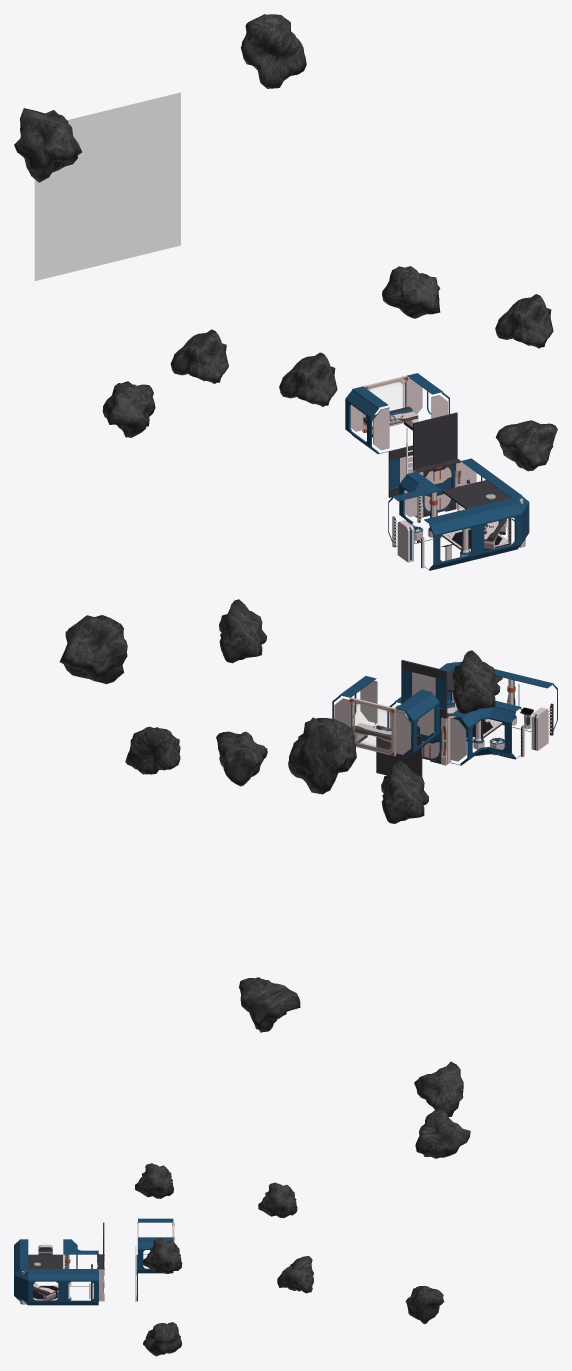
3 renders of one model, top to bottom at view 1: azimuth 30°, elevation 25°; view 2: azimuth 150°, elevation 25°; view 3: azimuth 270°, elevation 25°, orthographic. The views are drawn at different scales.
Parts seen in each view (by area): view 1: Vortex (1), window_big_plug (×3), Space Waste Small (7), Space Waste Small (8), floor_4 (×2), Space Waste Small (5), Space Waste Small (1), Space Waste Small (3), Space Waste Small (4), Space Waste Small (2), Space Waste Small (6), floor_5 (1) (+3 smaller); view 2: Space Waste Small (8), Space Waste Small (7), floor_4 (×2), Space Waste Small (4), Space Waste Small (2), Space Waste Small (6), Space Waste Small (3), Space Waste Small (5), Space Waste Small (1), window_big_corner_plug, glass_panel_1, window_big_plug (+5 smaller); view 3: window_big_plug (×3), Space Waste Small (7), Space Waste Small (8), Space Waste Small (6), Space Waste Small (4), Space Waste Small (2), Space Waste Small (3), Space Waste Small (1), Space Waste Small (5), floor_5 (1), window_big_corner_far_plug (1), window_big_corner_plug.
Boxes of the visible parts, x1,y1,x2,y2 form: Vortex (1): [34, 92, 180, 280]; window_big_plug (×3): [345, 386, 521, 570]; Space Waste Small (7): [240, 14, 306, 88]; Space Waste Small (8): [14, 108, 81, 182]; floor_4 (×2): [388, 412, 457, 497]; Space Waste Small (5): [382, 266, 440, 318]; Space Waste Small (1): [495, 420, 557, 471]; Space Waste Small (3): [279, 352, 337, 406]; Space Waste Small (4): [170, 329, 228, 383]; Space Waste Small (2): [495, 294, 553, 348]; Space Waste Small (6): [102, 381, 155, 437]; floor_5 (1): [442, 480, 510, 509]; Space Waste Small (8): [288, 717, 356, 794]; Space Waste Small (7): [59, 615, 127, 684]; floor_4 (×2): [376, 660, 447, 776]; Space Waste Small (4): [381, 760, 428, 823]; Space Waste Small (2): [219, 599, 266, 663]; Space Waste Small (6): [239, 977, 300, 1032]; Space Waste Small (3): [452, 650, 500, 714]; Space Waste Small (5): [125, 726, 180, 774]; Space Waste Small (1): [216, 731, 267, 786]; window_big_corner_plug: [450, 700, 521, 765]; glass_panel_1: [349, 697, 396, 756]; window_big_plug: [395, 689, 439, 758]; window_big_plug (×3): [28, 1237, 173, 1305]; Space Waste Small (7): [415, 1107, 470, 1158]; Space Waste Small (8): [414, 1061, 463, 1116]; Space Waste Small (6): [405, 1286, 444, 1324]; Space Waste Small (4): [258, 1182, 297, 1217]; Space Waste Small (2): [143, 1238, 182, 1273]; Space Waste Small (3): [135, 1163, 173, 1198]; Space Waste Small (1): [143, 1322, 181, 1356]; Space Waste Small (5): [277, 1256, 313, 1293]; floor_5 (1): [28, 1254, 63, 1268]; window_big_corner_far_plug (1): [14, 1269, 28, 1304]; window_big_corner_plug: [63, 1239, 98, 1286].
Size of what is drawn, in the model's own units: 18.16 by 19.69 by 37.12.
Materials: 22 (6 with a texture image).
